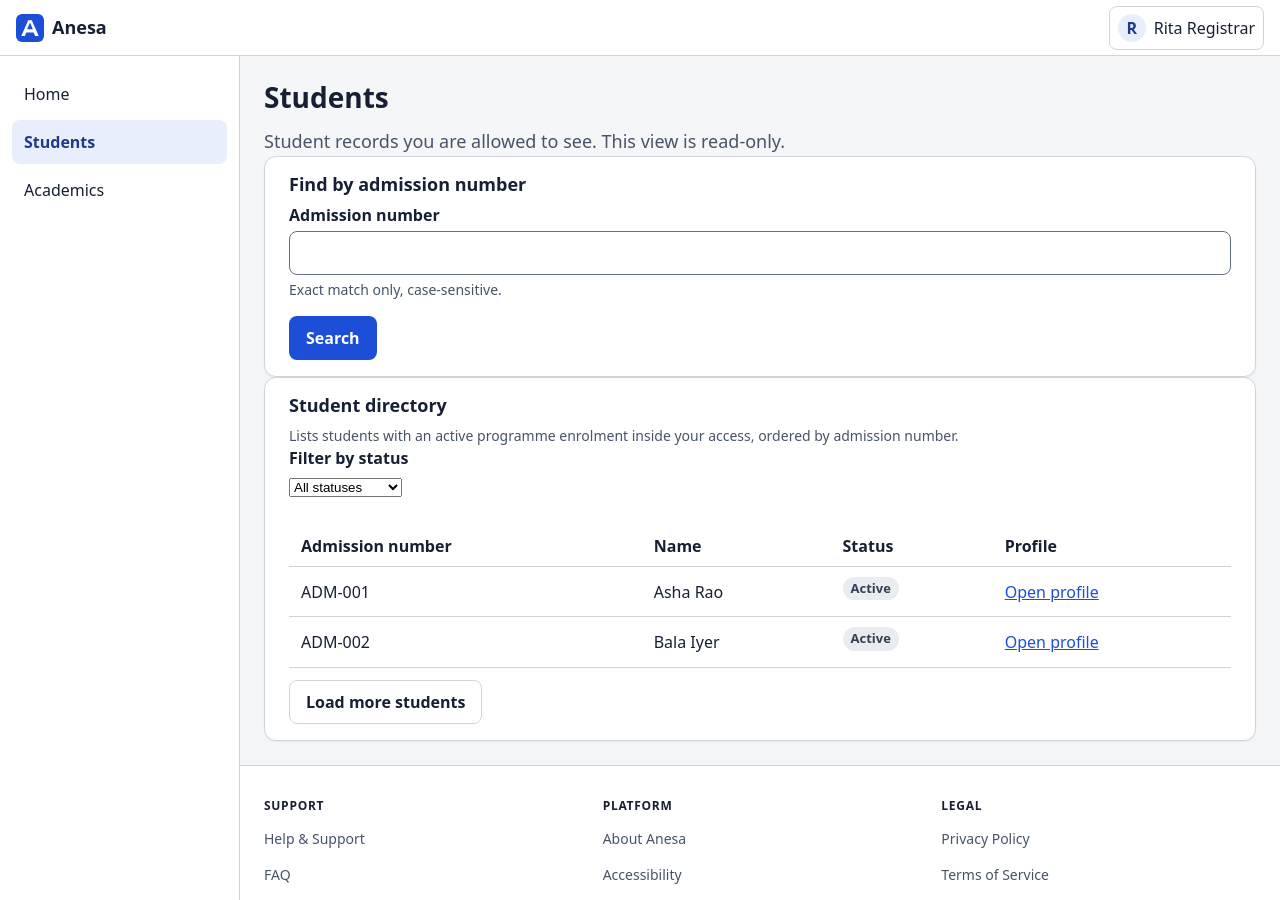
it: /students: directory › continues with the server cursor and stops when there is no next page
Click the button "Load more students". click: (386, 702)
box: [289, 680, 482, 724]
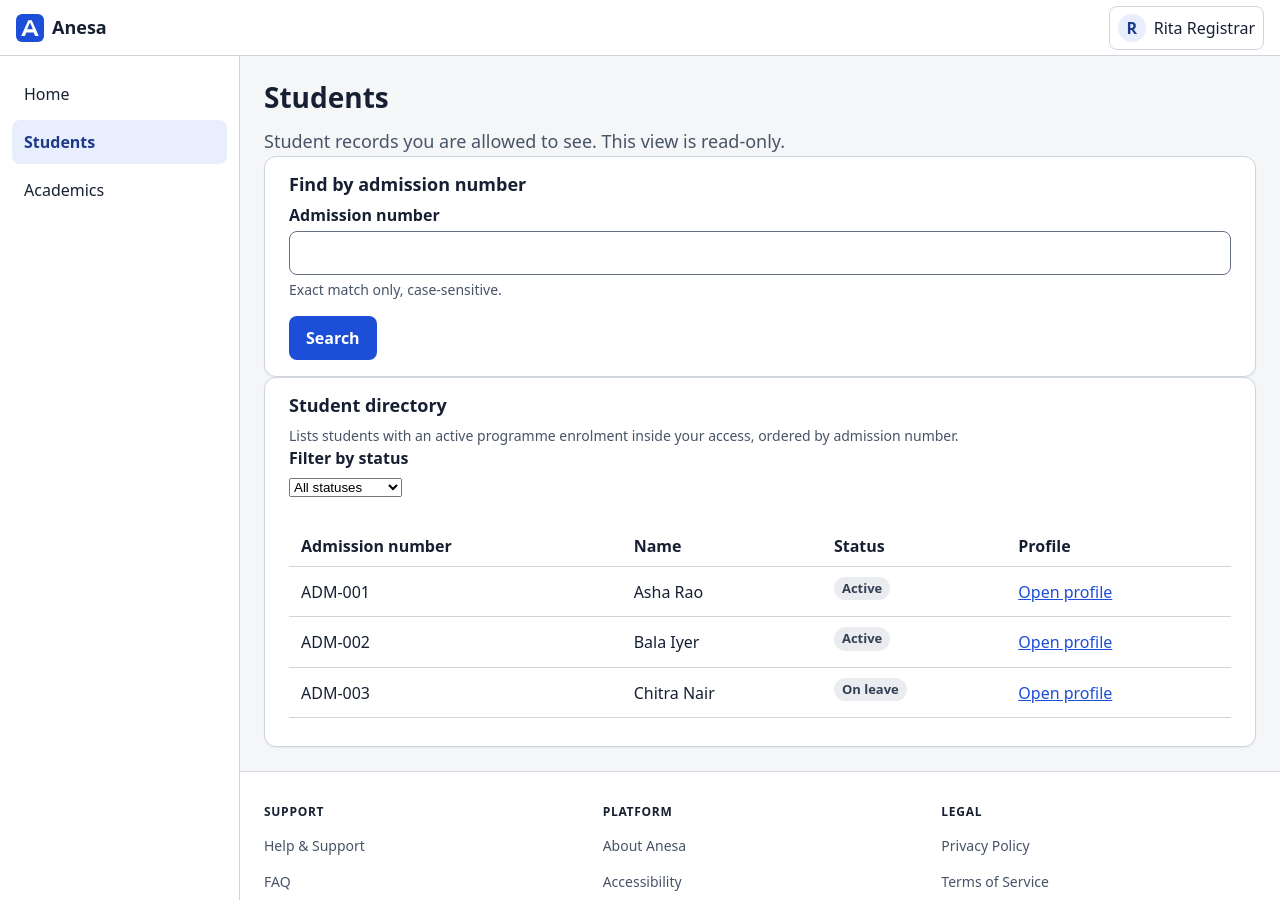
Now the button "Load more students" is gone
